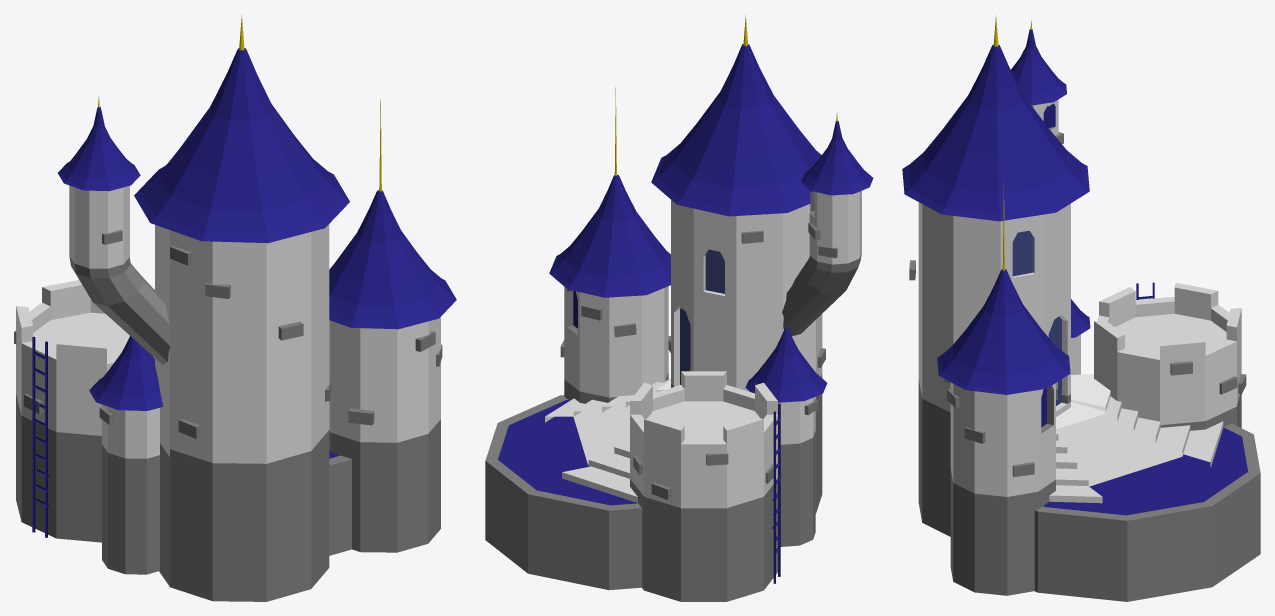
File: castle.fbx
The picture shows the model from 3 angles, left to right: view 1: azimuth 30°, elevation 25°; view 2: azimuth 150°, elevation 25°; view 3: azimuth 270°, elevation 25°; orthographic projection. The views are drawn at different scales.
Visible parts, largest first — view 1: Circle.004, Circle.001, Circle.011, Circle.002, Circle.012, Circle.014, Circle.003, Circle.013, Circle.015, Circle, Cube.001; view 2: Circle.002, Circle.004, Circle, Circle.011, Circle.001, Circle.012, Circle.014, Circle.003, Circle.013, Circle.015, Circle.009, Circle.010 (+2 smaller); view 3: Circle, Circle.004, Circle.001, Circle.011, Circle.002, Circle.012, Circle.009, Circle.007, Circle.015, Circle.010, Circle.008, Circle.006 (+3 smaller).
Boxes of the visible parts, x1,y1,x2,y2 form: Circle.004: [155, 224, 329, 601]; Circle.001: [329, 317, 440, 552]; Circle.011: [134, 48, 349, 243]; Circle.002: [16, 280, 154, 542]; Circle.012: [329, 190, 456, 329]; Circle.014: [69, 185, 170, 364]; Circle.003: [102, 404, 159, 574]; Circle.013: [89, 336, 163, 410]; Circle.015: [58, 107, 140, 191]; Circle: [329, 450, 351, 555]; Cube.001: [32, 336, 49, 537]; Circle.002: [630, 371, 777, 601]; Circle.004: [671, 200, 822, 513]; Circle: [485, 395, 641, 590]; Circle.011: [651, 44, 821, 216]; Circle.001: [564, 286, 668, 403]; Circle.012: [549, 174, 670, 297]; Circle.014: [782, 190, 861, 336]; Circle.003: [778, 396, 815, 546]; Circle.013: [745, 327, 827, 402]; Circle.015: [801, 121, 873, 195]; Circle.009: [573, 399, 629, 478]; Circle.010: [545, 398, 637, 502]; Circle: [1034, 423, 1260, 601]; Circle.004: [918, 202, 1070, 536]; Circle.001: [950, 382, 1055, 595]; Circle.011: [902, 44, 1089, 221]; Circle.002: [1094, 283, 1241, 430]; Circle.012: [937, 269, 1070, 394]; Circle.009: [1056, 425, 1190, 486]; Circle.007: [1056, 417, 1160, 468]; Circle.015: [1011, 29, 1066, 105]; Circle.010: [1049, 421, 1223, 503]; Circle.008: [1056, 374, 1110, 429]; Circle.006: [1056, 408, 1138, 453].
Size of the model in its own units: 1073 by 1541 by 1005.
